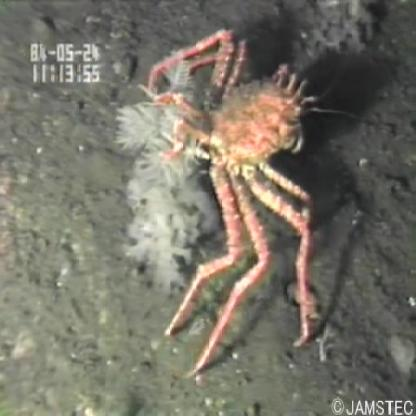Bio: (110, 26, 323, 382)
